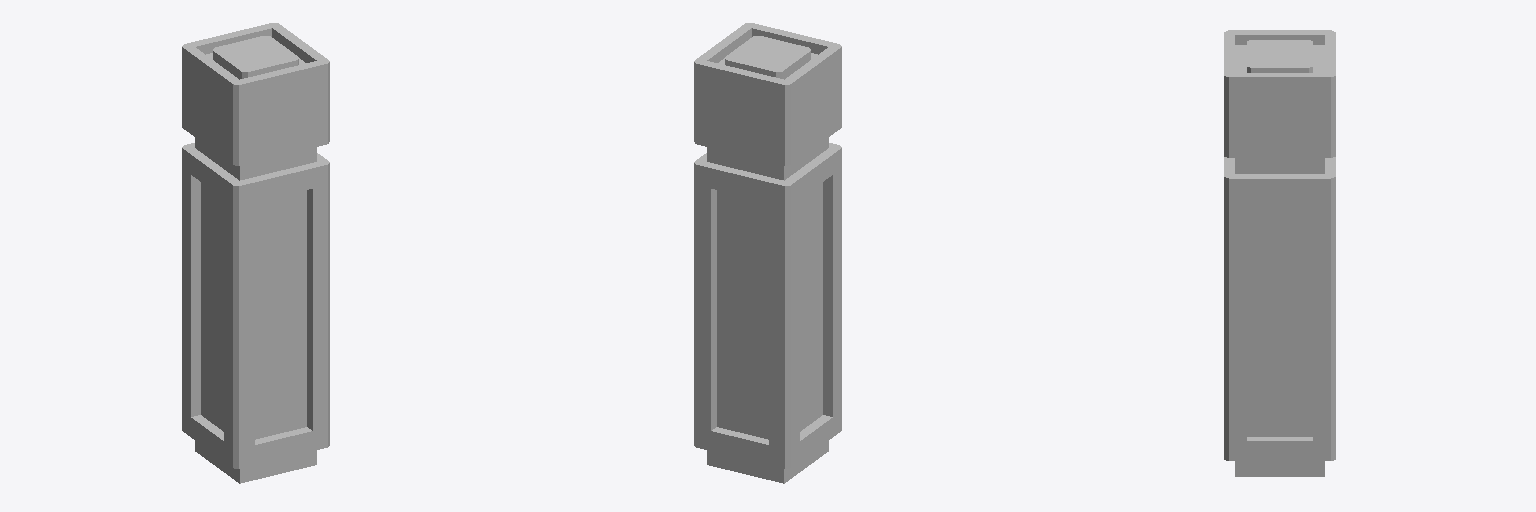
Rendered from low-detail-building-a.obj.
The picture shows the model from 3 angles: view 1: azimuth 30°, elevation 25°; view 2: azimuth 150°, elevation 25°; view 3: azimuth 270°, elevation 25°; orthographic projection.
Parts seen in each view (by area): view 1: low-detail-building-a; view 2: low-detail-building-a; view 3: low-detail-building-a.
Part boxes in pixels (x1,y1,x2,y2): low-detail-building-a: (182,23,329,483); low-detail-building-a: (694,23,841,483); low-detail-building-a: (1224,30,1335,476).
Size of the model in its own units: 0.5 by 2 by 0.5.